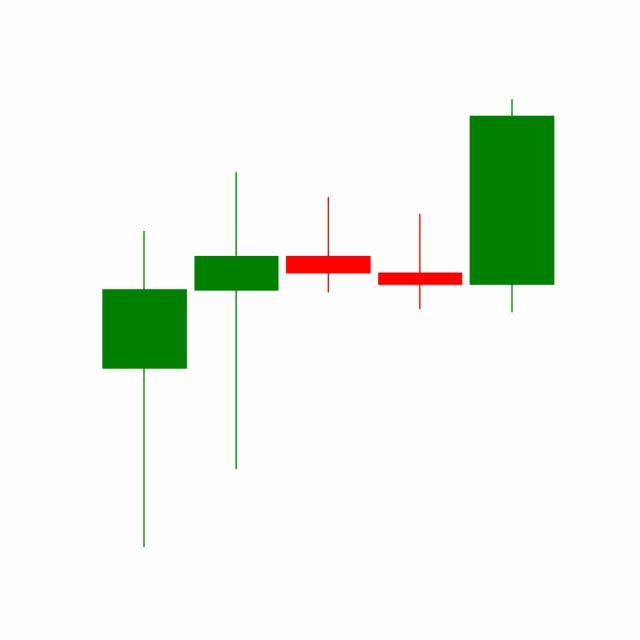Gravestone Doji: (374, 214, 468, 312)
